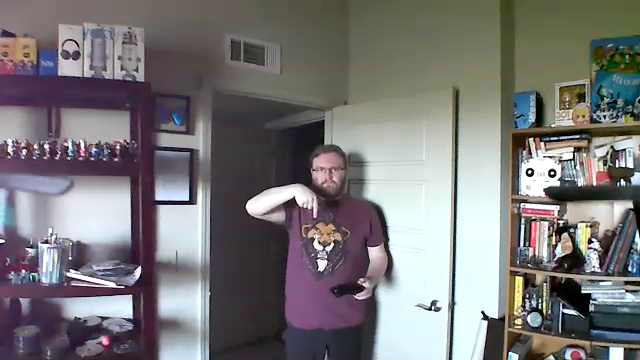down: (288, 179, 324, 221)
